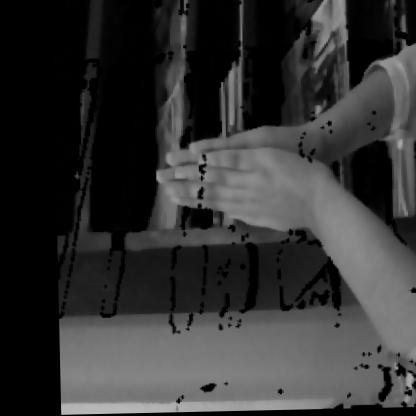namaste: (120, 74, 365, 275)
